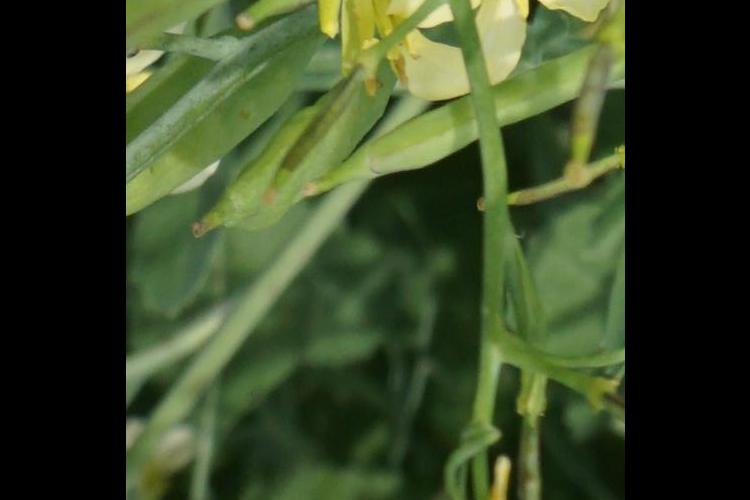pod: (304, 61, 580, 232), (193, 55, 371, 267), (467, 146, 621, 234), (561, 53, 611, 195), (234, 1, 412, 32)
white: (402, 1, 588, 108)
